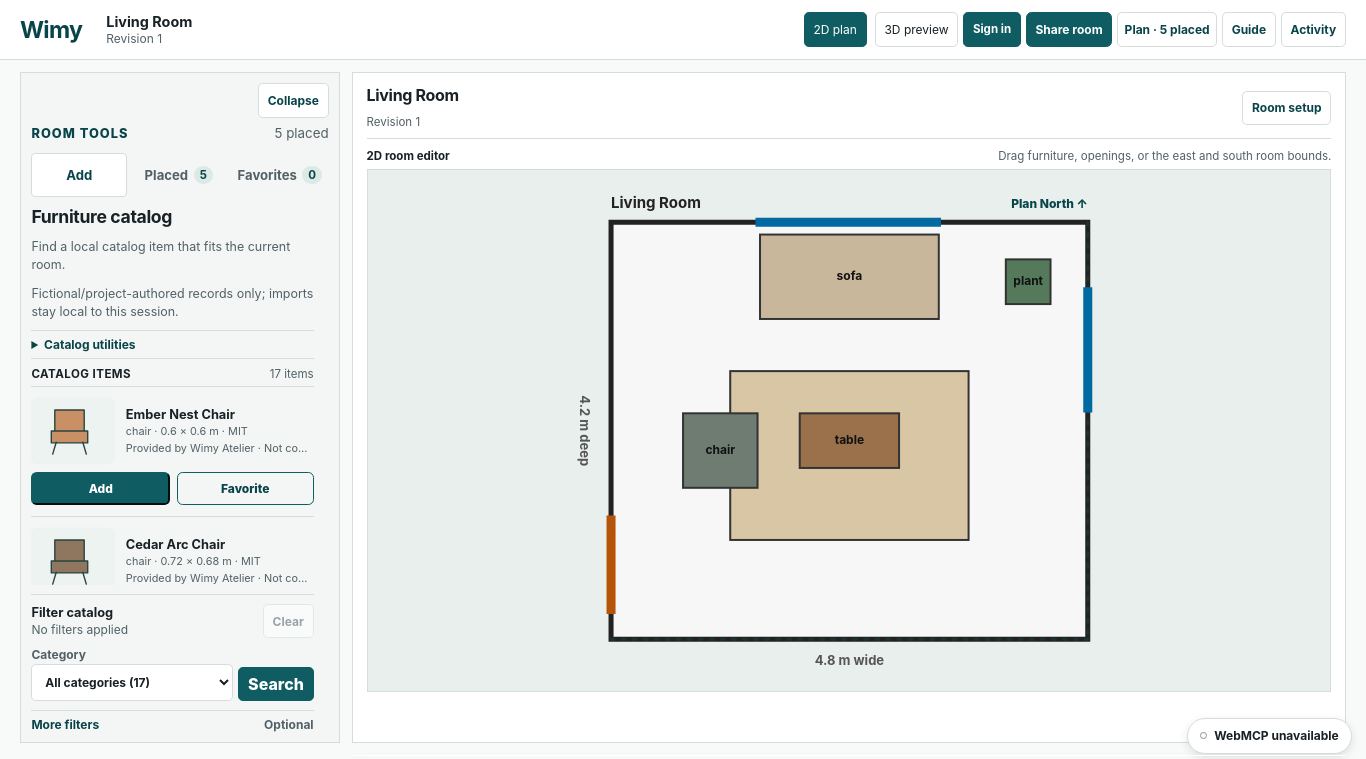
Test case: App › collapses the rail without losing the selected tab and restores focus
The image size is (1366, 759).
Click the tab "Favorites 0" at (280, 175), box [230,153,329,197]
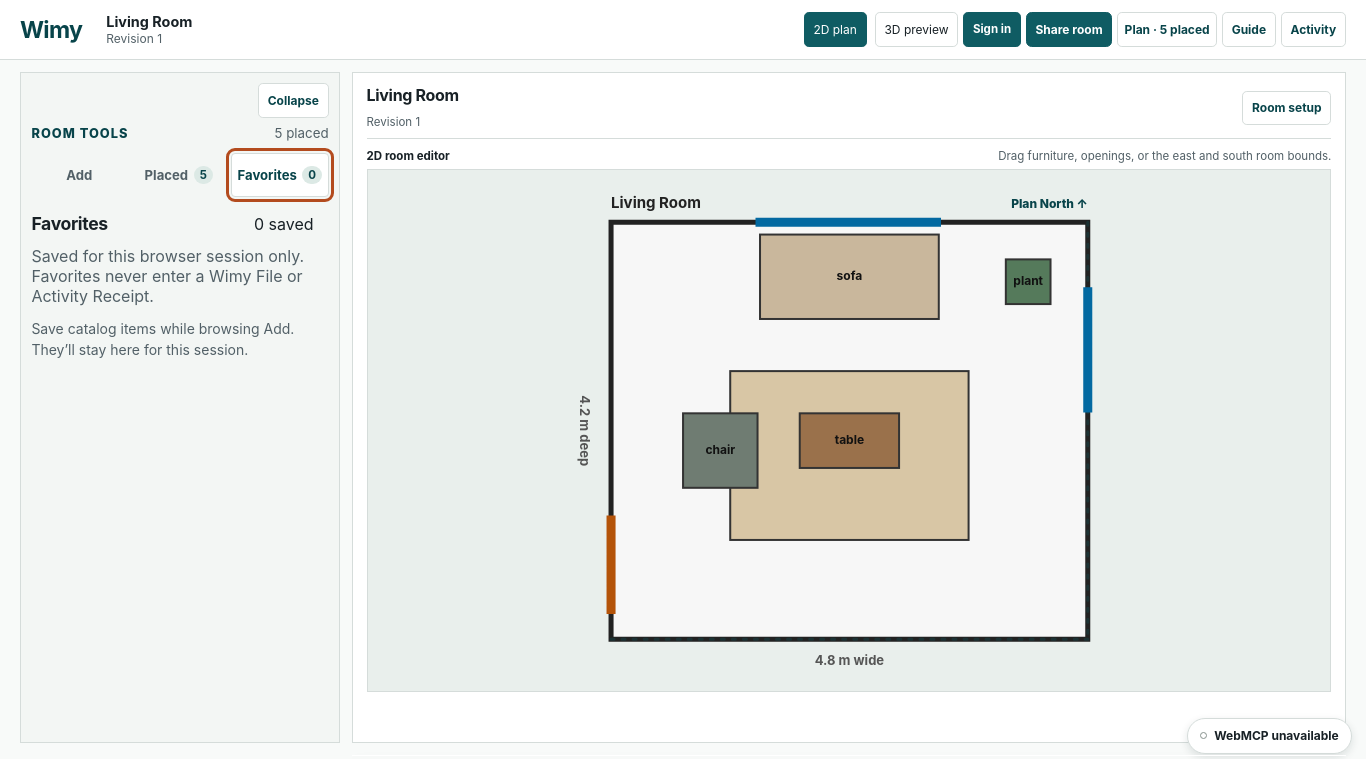
Click the button with aria-label "Collapse room tools" at (293, 101), box [258,83,329,118]
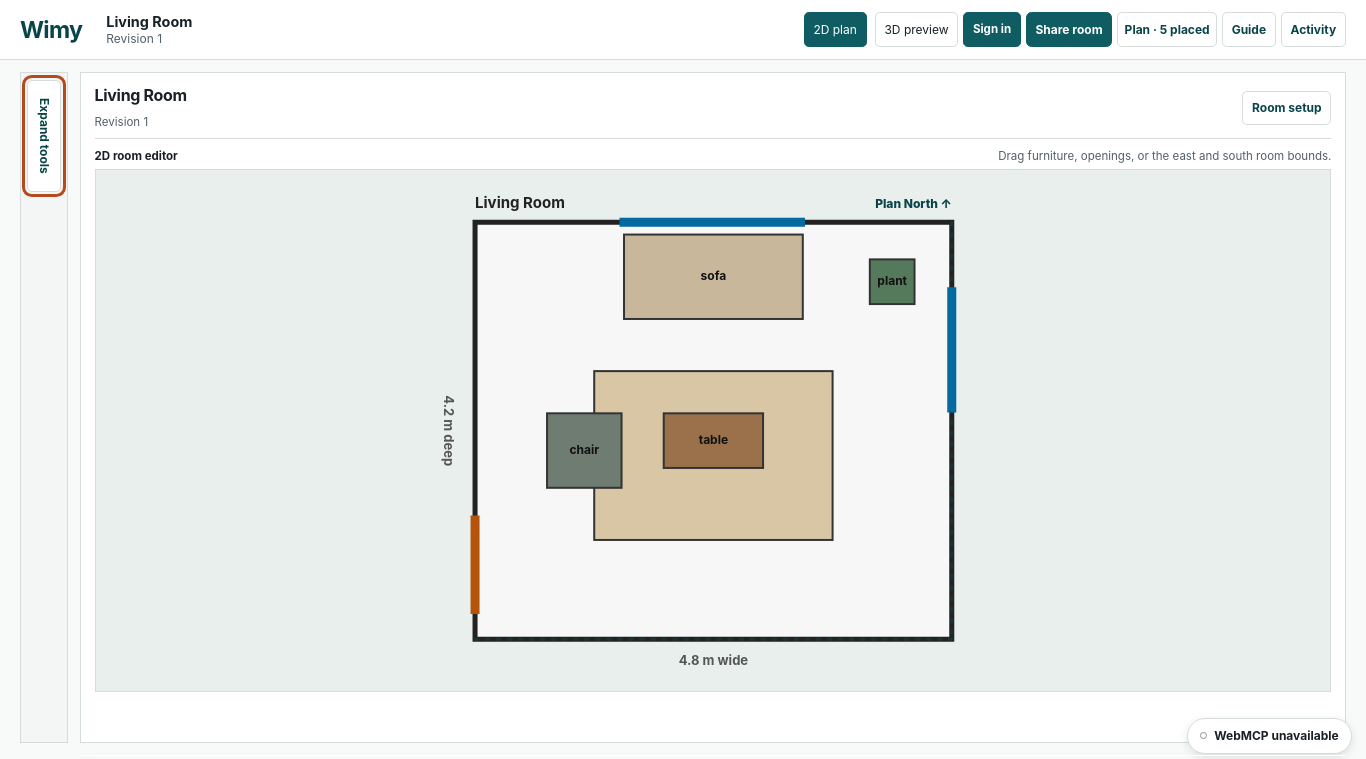
Expected: the button with aria-label "Expand room tools" is shown
Click the button with aria-label "Expand room tools" at (44, 136), box [27,80,61,192]
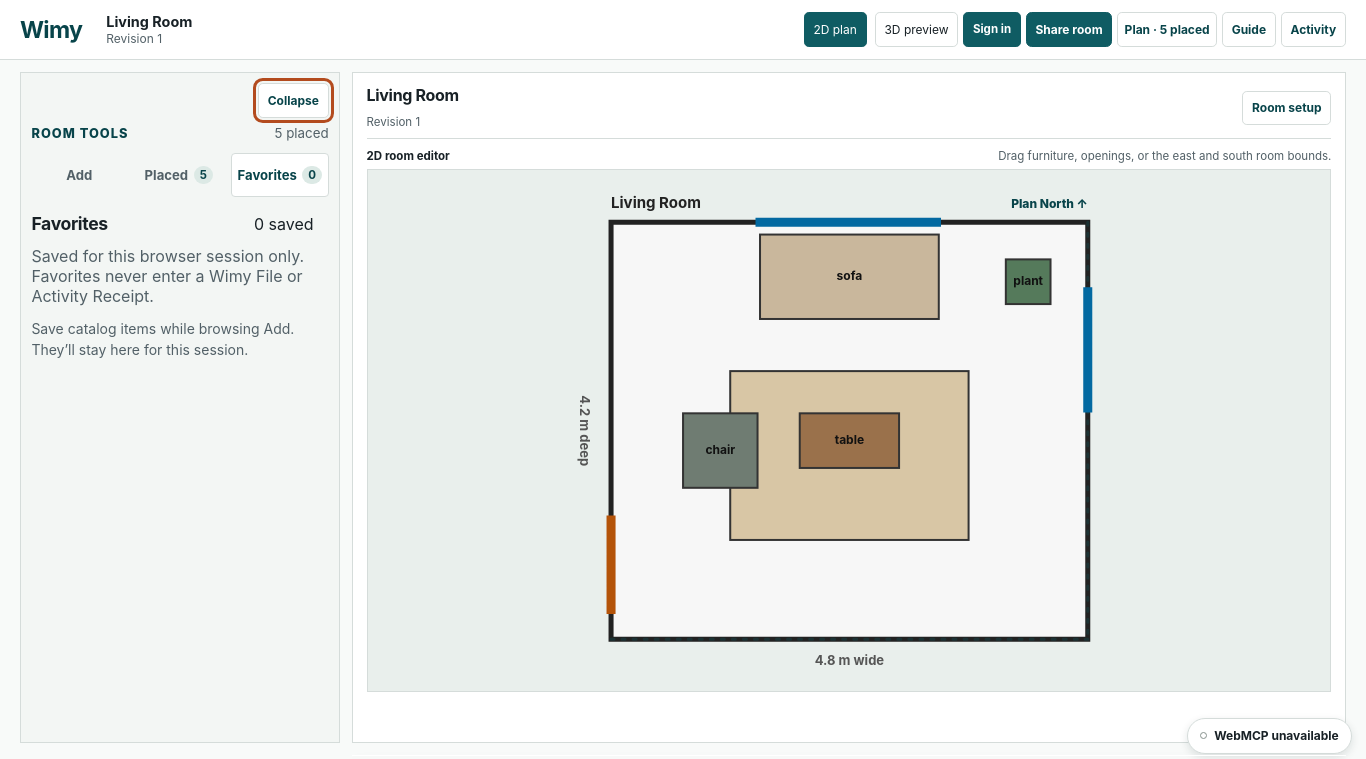
Expected: the panel "Favorites" is shown, [31,197,314,360]
